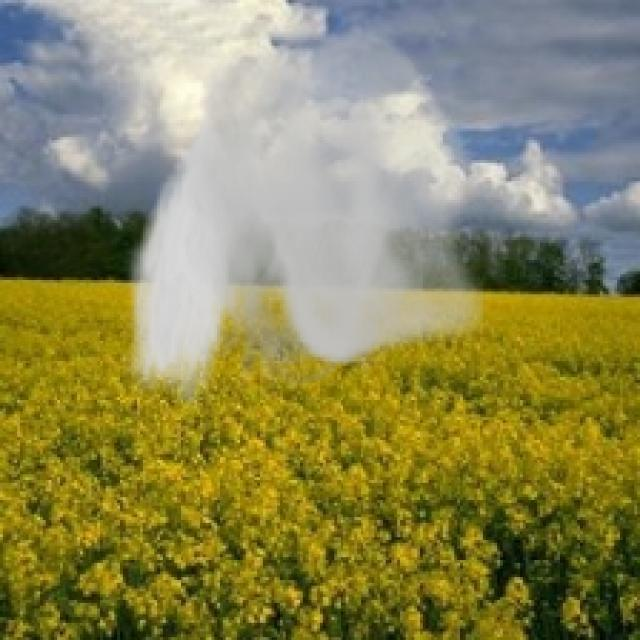Smoke: (123, 14, 486, 412)
